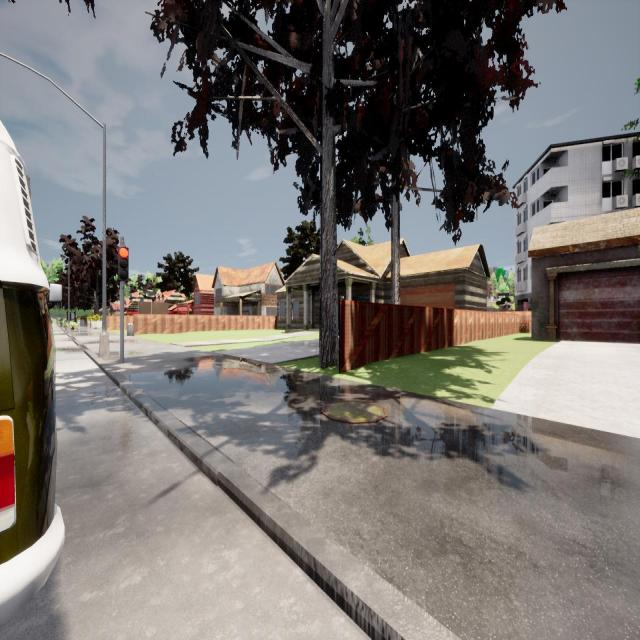Vehicle: (0, 120, 66, 623)
traffic_light: (119, 247, 128, 282)
